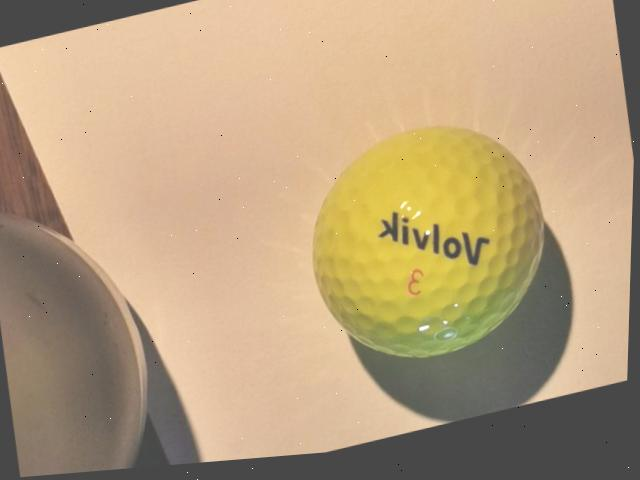Ball: (295, 107, 568, 391)
Volvik: (377, 198, 498, 295)
